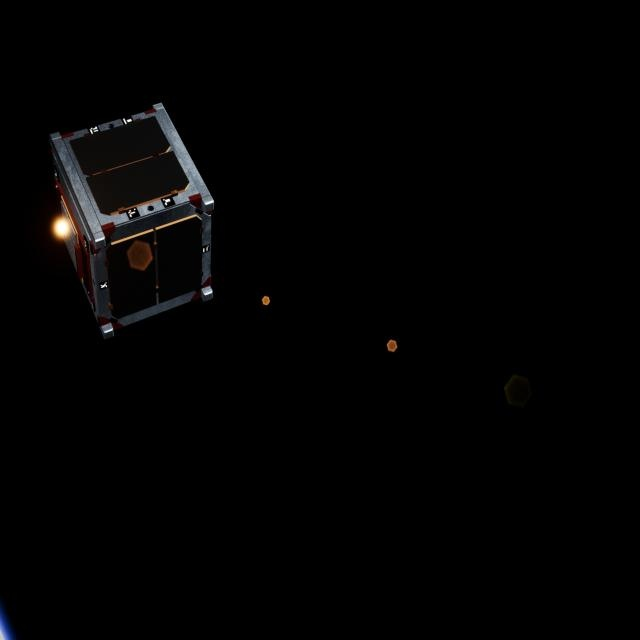medium_debris: (40, 95, 216, 366)
